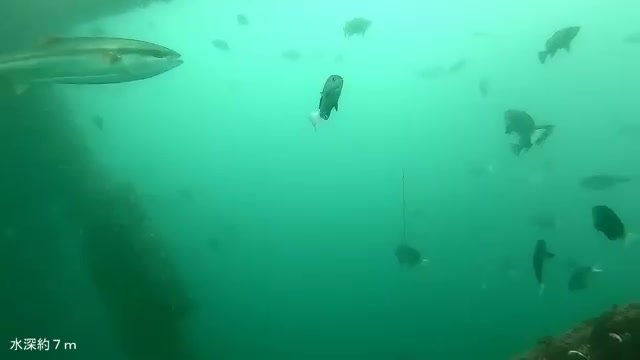hamati: (1, 26, 188, 101)
smallfish: (297, 70, 355, 139), (531, 20, 591, 70), (584, 201, 640, 251), (502, 106, 554, 157), (529, 236, 563, 289)
